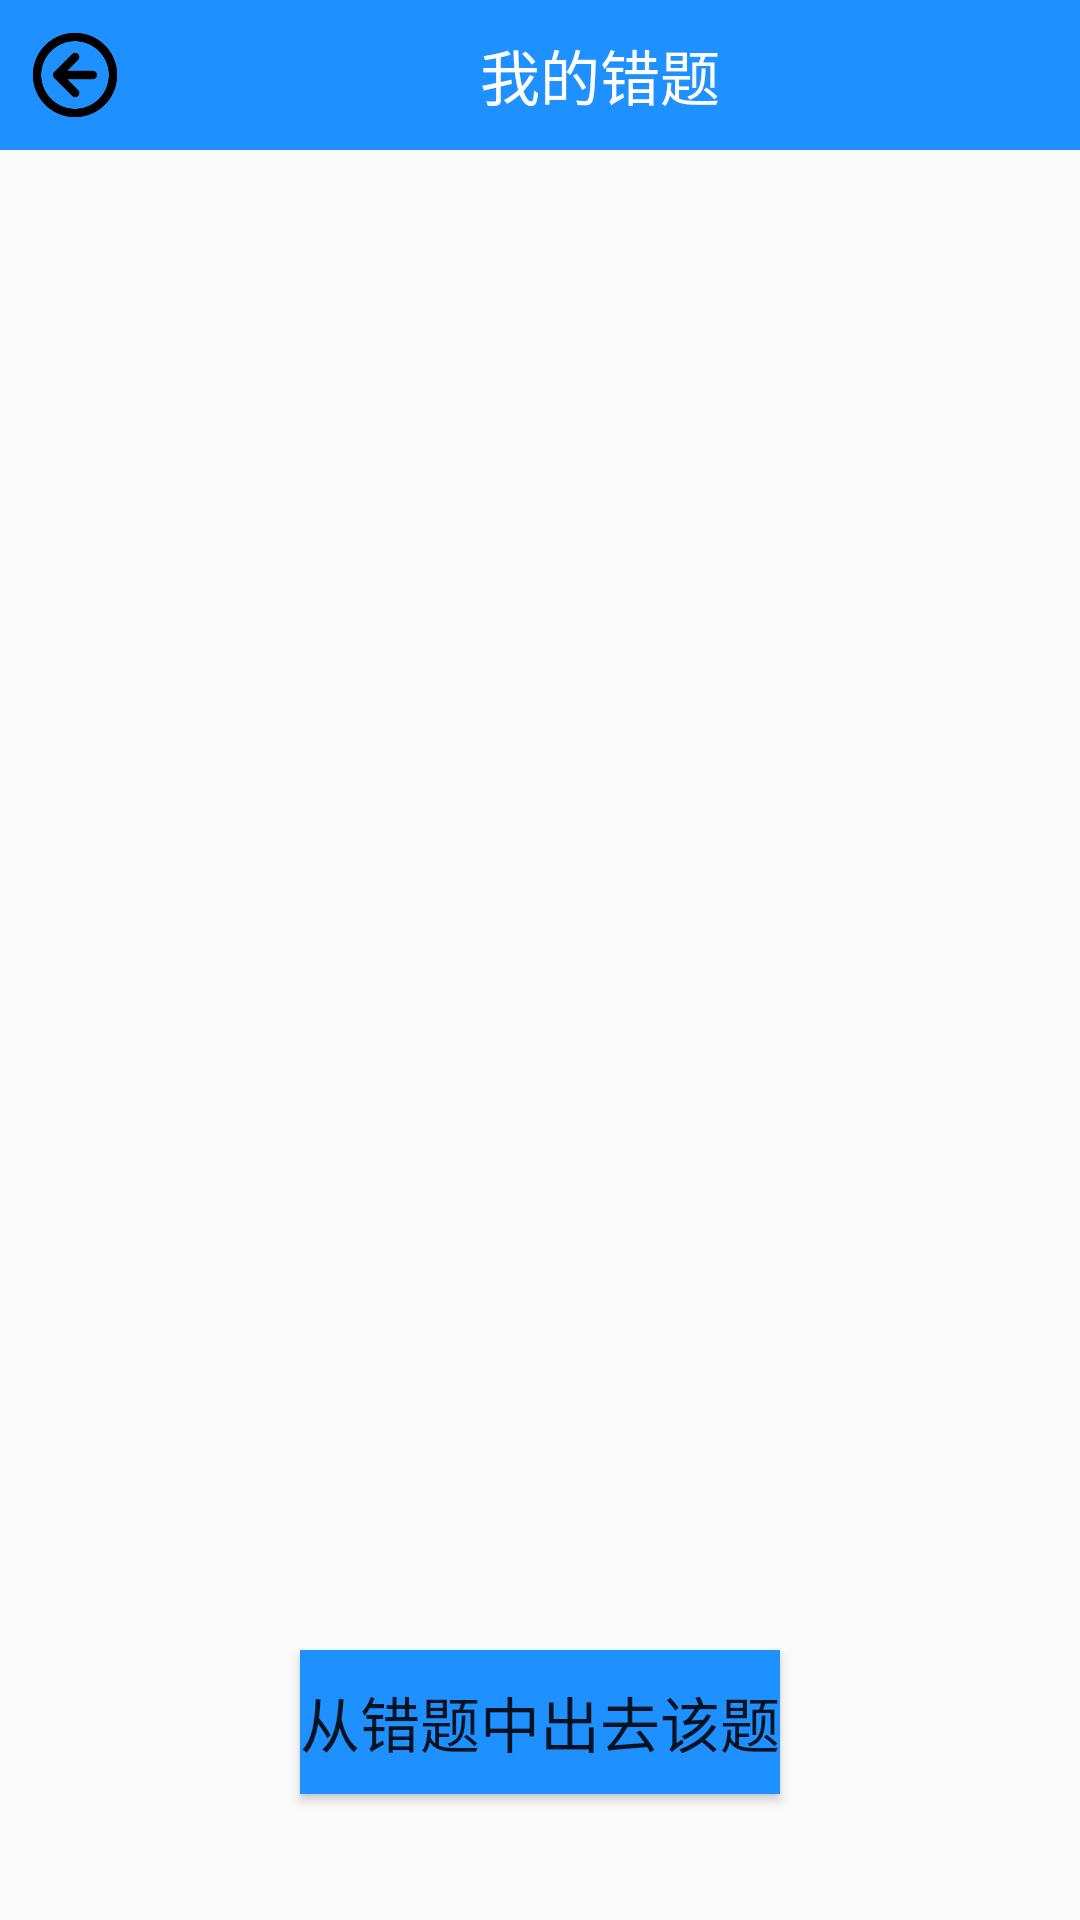

Screen size 1080x1920. Icon name, then its box in pixels as (x1, y1, x2, y2):
fanhui: (33, 33, 117, 117)
